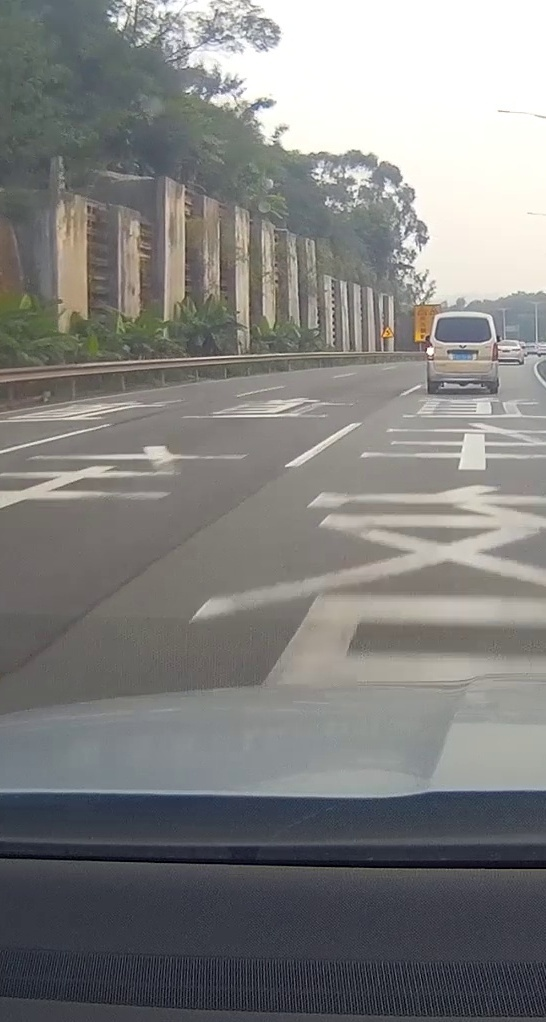L_light: (427, 342, 434, 359)
R_light: (492, 342, 498, 361)
T_light: (457, 316, 469, 319)
day-left: (426, 311, 499, 394)
